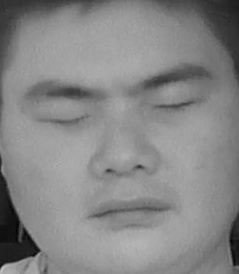blink: (36, 100, 88, 135), (154, 91, 199, 123)
mouth: (92, 189, 174, 233)
